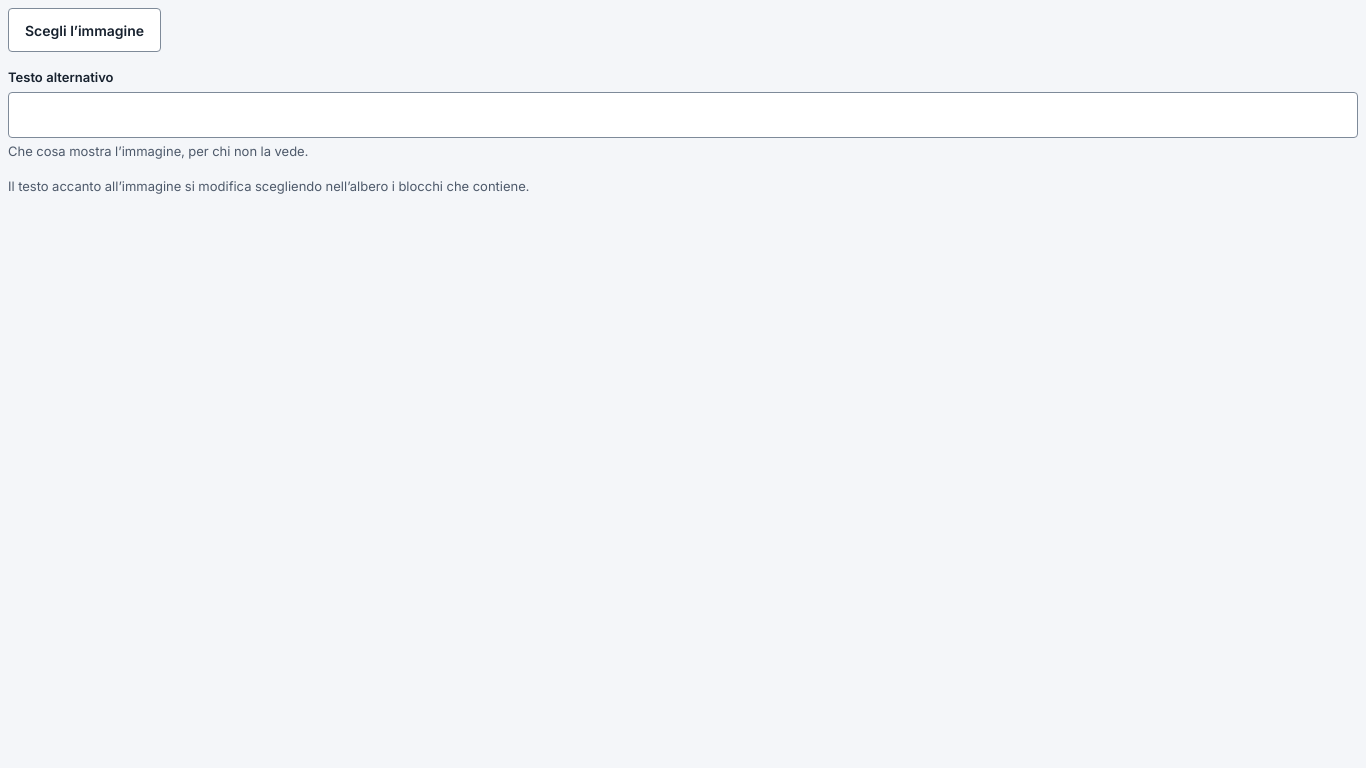
it: pannello del blocco «Media e testo» (DR-320) › confermando il testo proposto dal media, il blocco lo riceve: il sito non lo legge dal media
Step 1. Click the button "Scegli l’immagine" → click(85, 30), box [8,8,161,52]
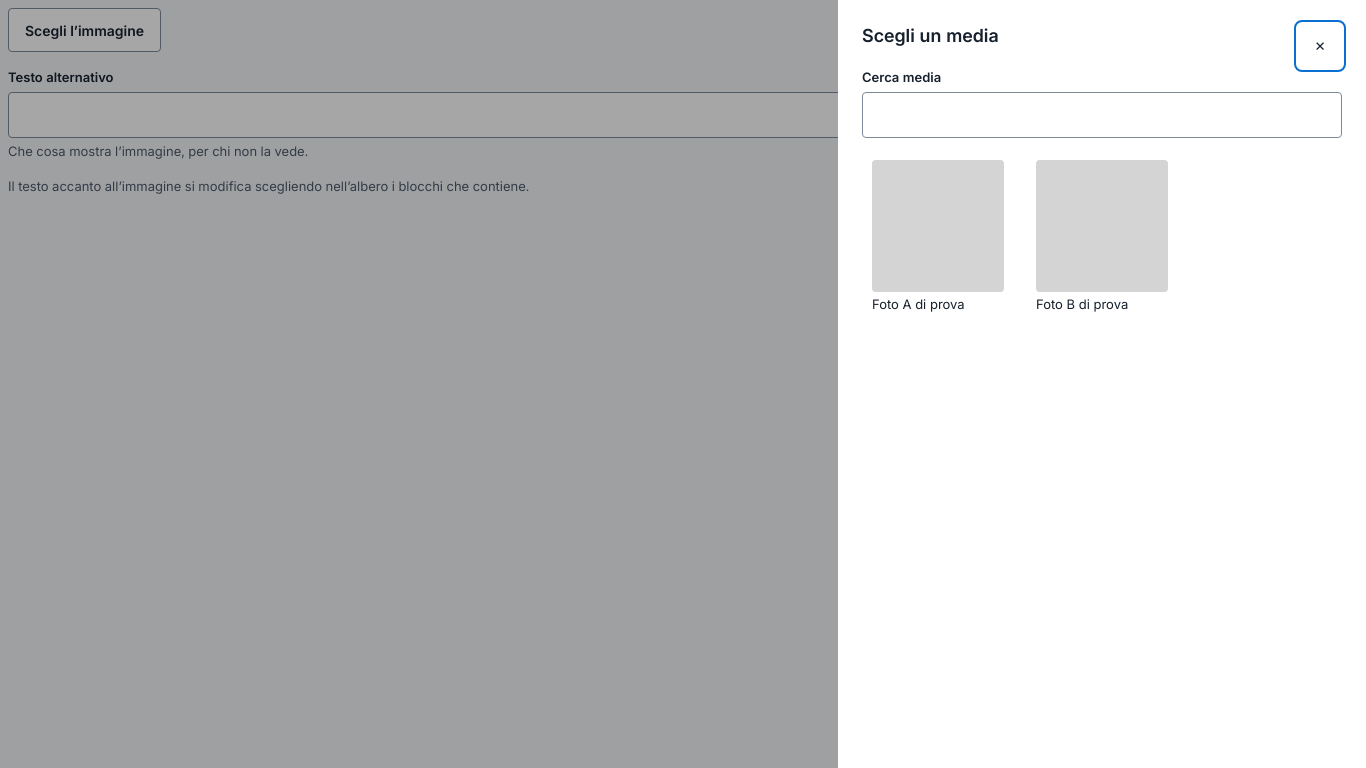
Step 2. Click the option "Foto A di prova" → click(938, 236), box [862,150,1014,322]
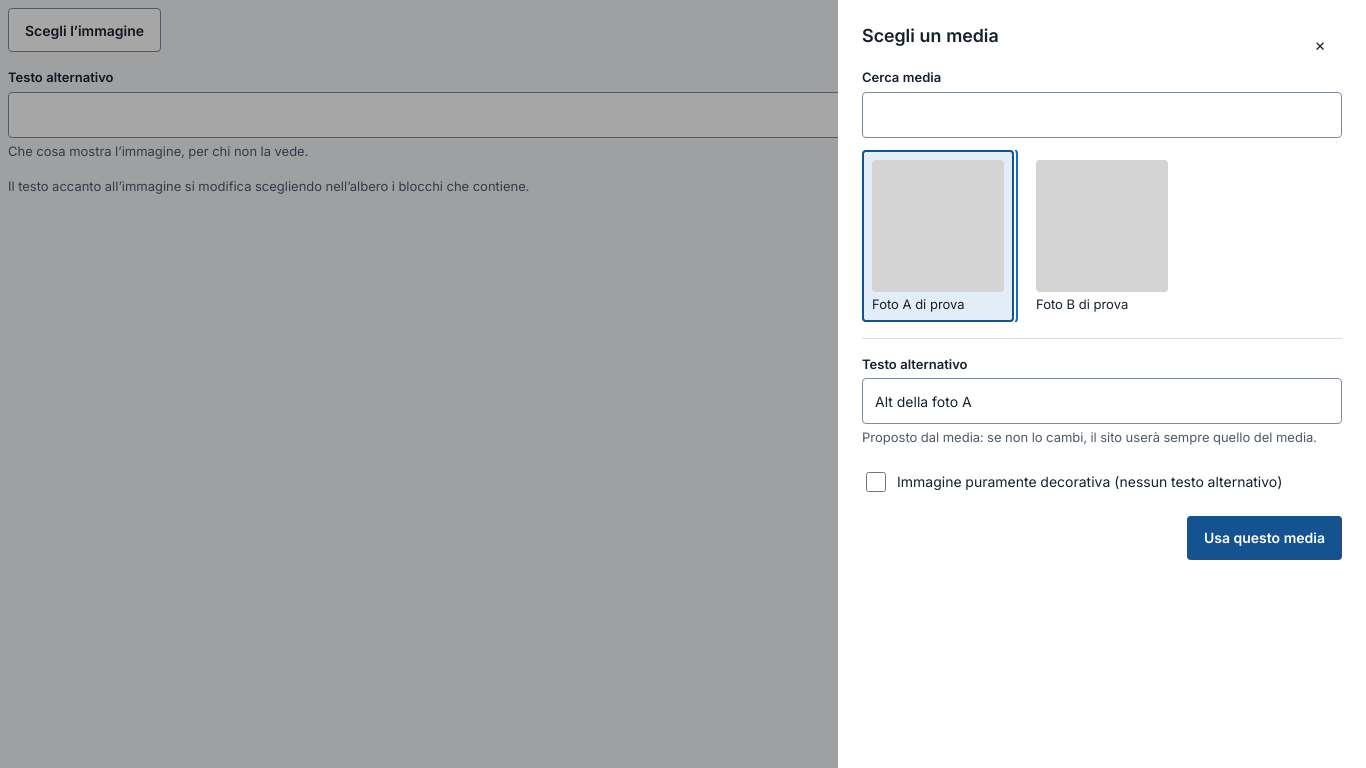
Step 3. Click the button "Usa questo media" → click(1264, 538), box [1187,516,1342,560]
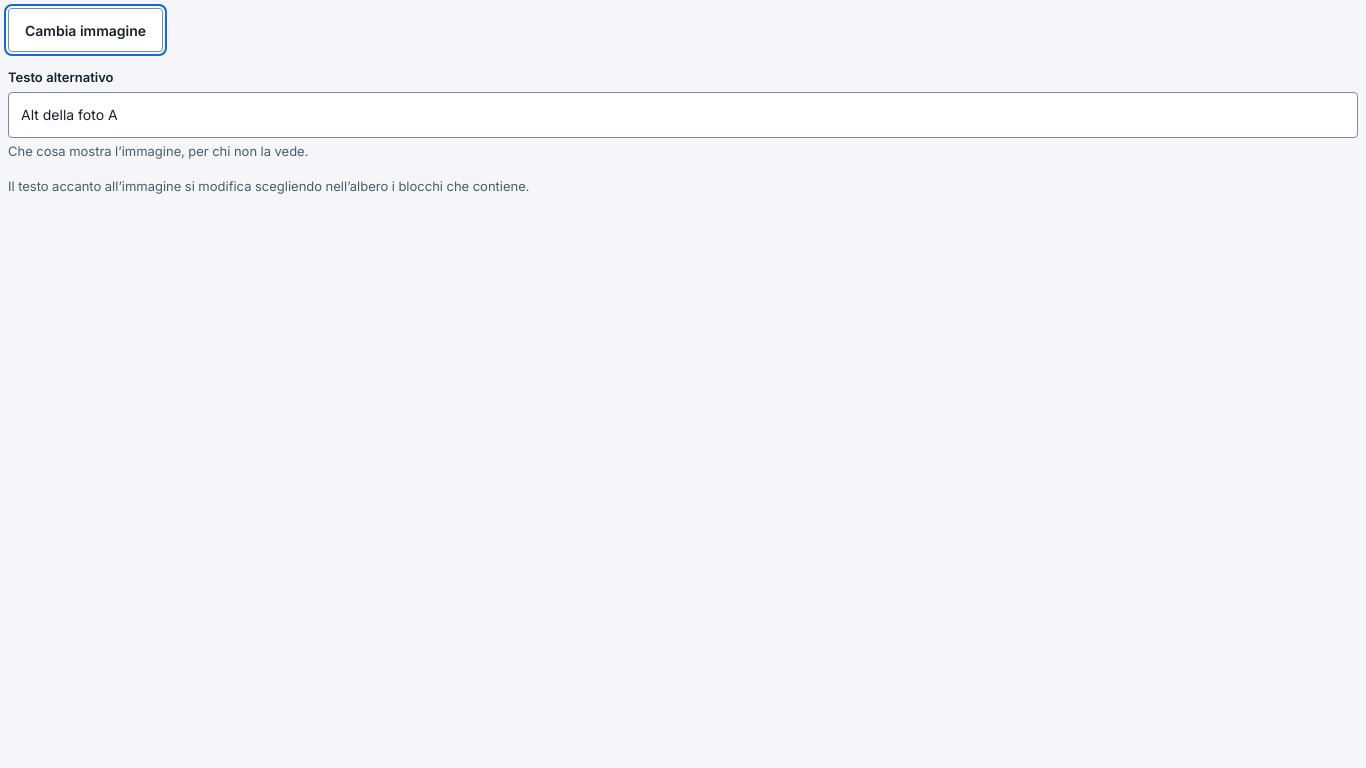
expect the field labelled "Testo alternativo" holds "Alt della foto A": met, box [8,92,1358,138]
